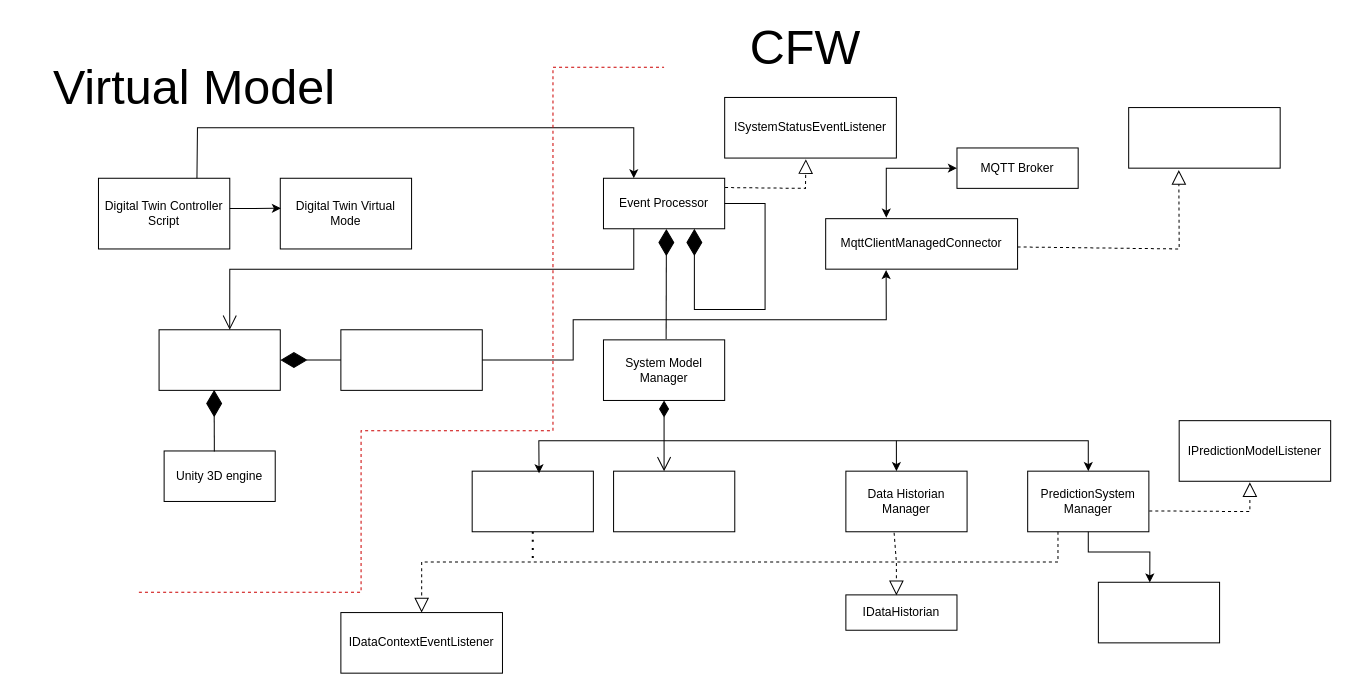
Image size: 1348x691. Some labels were removed from this diagram. Each missing label, with the box of its shape:
Config Type Model Manager: (613, 470, 735, 532)
ConnectionStateData: (340, 329, 482, 390)
Digital Twin Model Manager: (471, 470, 593, 532)
Digital Twin System Manager: (158, 329, 280, 390)
IPubSubConnector: (1128, 107, 1280, 168)
OLLAMA: (1097, 581, 1220, 643)
